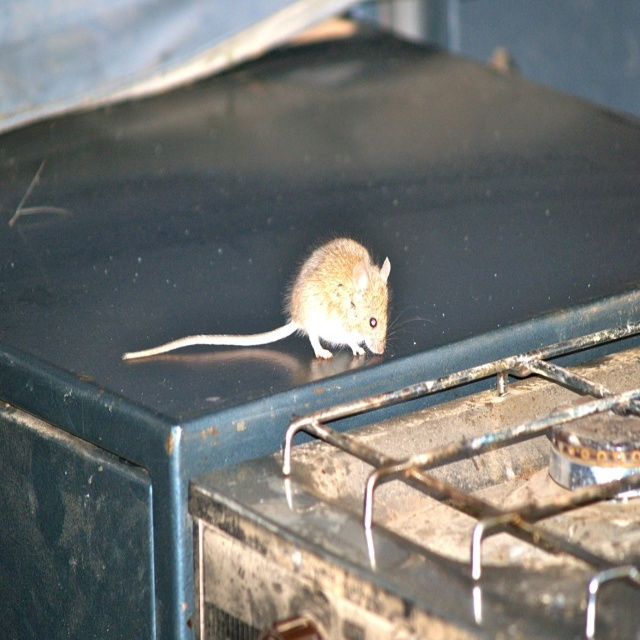Mouse: (122, 234, 429, 357)
